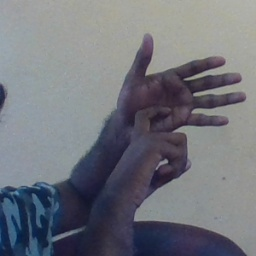R: (112, 29, 246, 186)
